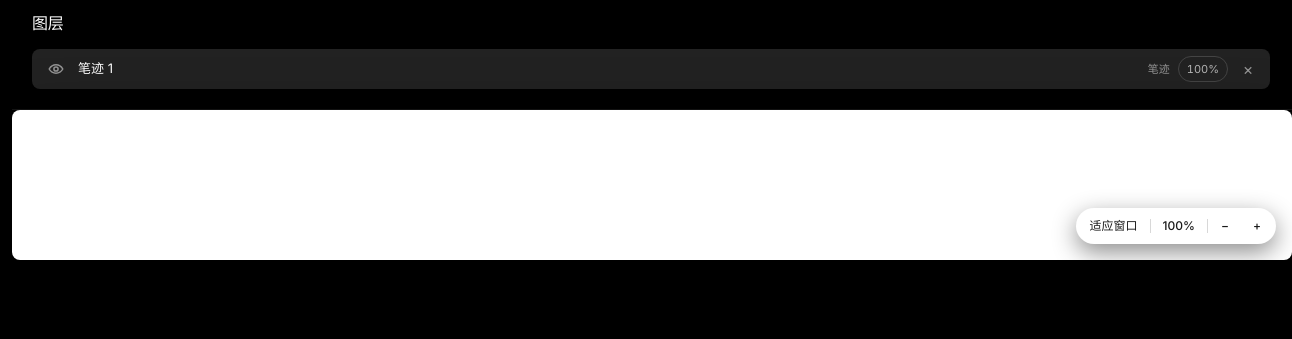
Test: 图层行内重命名 › PATCH 失败：乐观名称撤回原名，原因与重试落在画布顶部横幅
The image size is (1292, 339).
Double-click the text "笔迹 1".
double_click(96, 68)  # box [78,60,113,76]
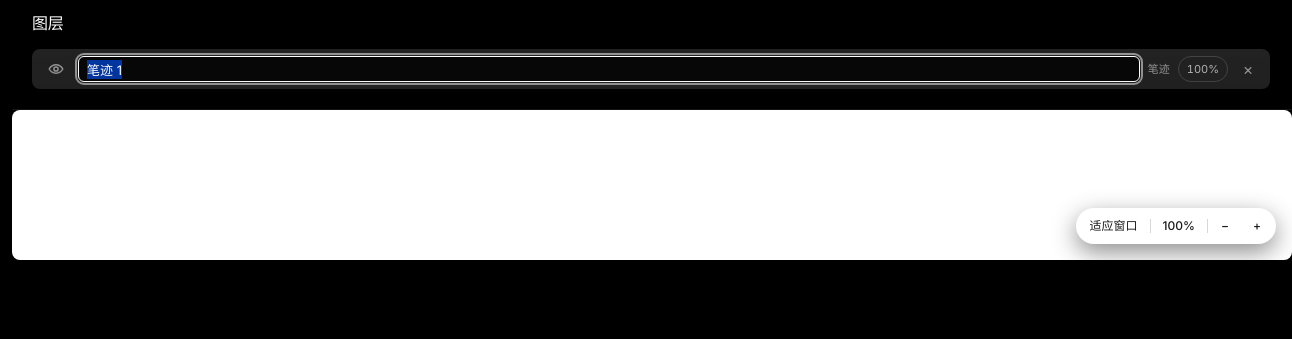
Replace the text in the field named "重命名 笔迹 1" with "背景" at (609, 69), box [78,56,1140,82]
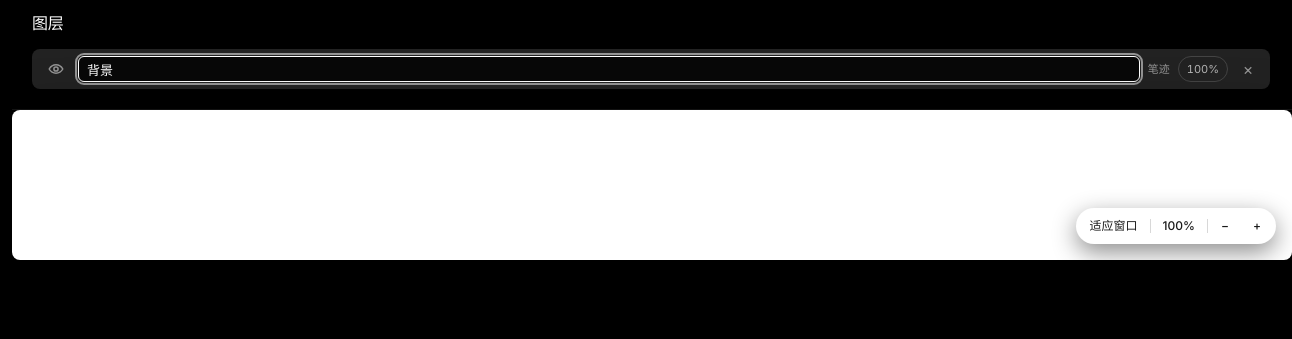
Press Enter in the field named "重命名 笔迹 1", box [78,56,1140,82]
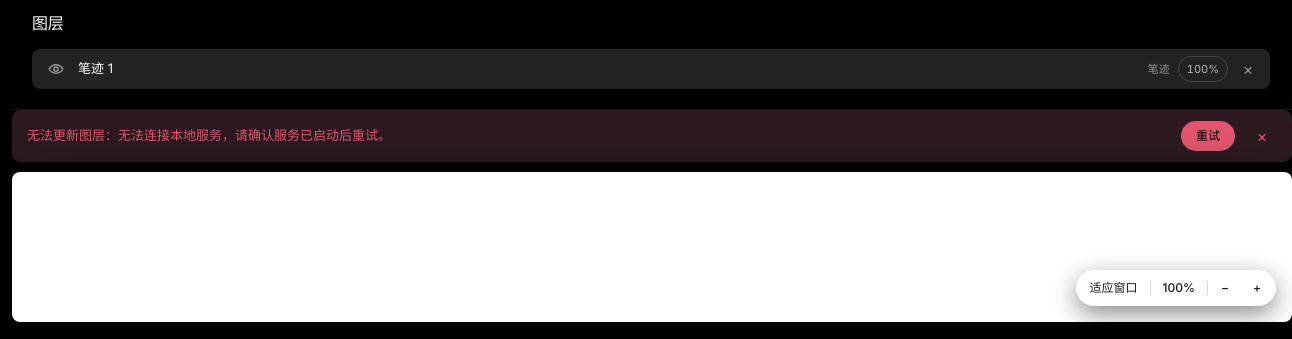
Expected: the text "笔迹 1" is shown, [78,60,113,76]
Expected: the message shows "无法更新图层", [27,127,391,143]
Expected: the message shows "无法连接本地服务", [27,127,391,143]
